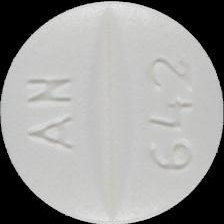65162-642: (0, 0, 224, 224)
